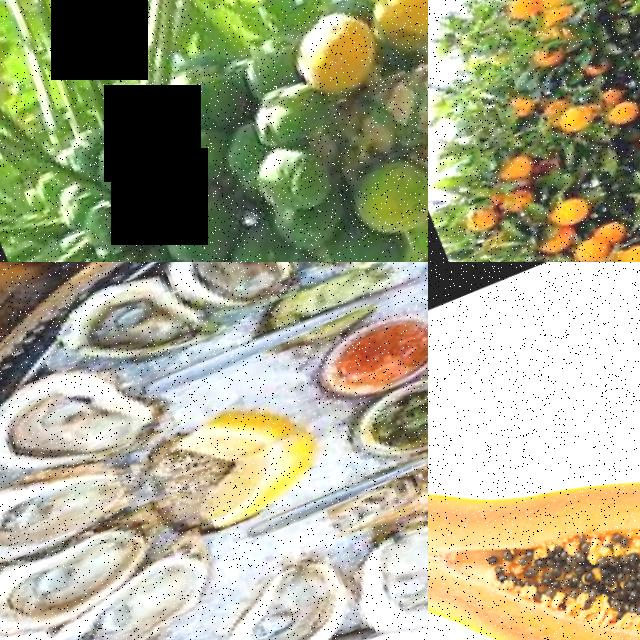lemon: (189, 424, 334, 529), (174, 389, 295, 477)
orange: (546, 190, 593, 231), (554, 98, 598, 135), (566, 230, 614, 262), (606, 93, 640, 128)
oysters: (0, 441, 149, 584), (0, 346, 142, 490), (0, 518, 151, 640), (36, 554, 232, 640), (48, 262, 192, 377), (195, 548, 360, 640), (336, 501, 428, 640), (145, 262, 294, 326)
pawpaw: (428, 323, 640, 640), (276, 0, 387, 101), (246, 131, 346, 224), (101, 146, 198, 235), (344, 145, 428, 242), (154, 183, 256, 262), (358, 0, 428, 58)
